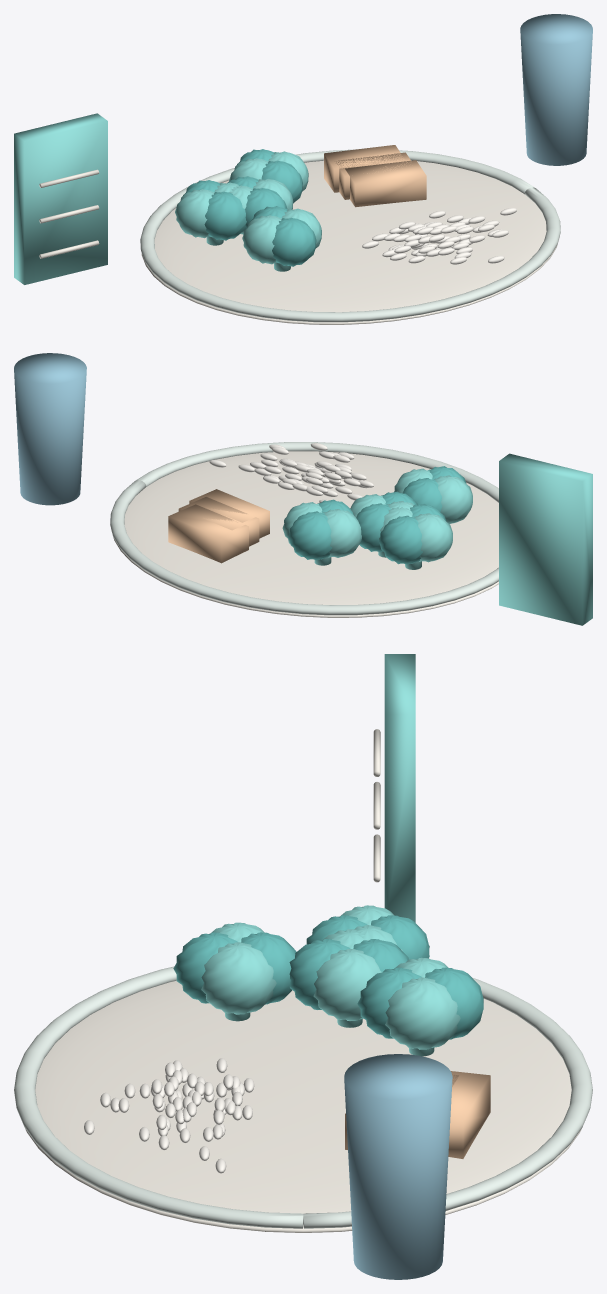
The model's file is metabolism-diabetes.glb.
3 views of the same model, one above another, from view 1: azimuth 30°, elevation 25°; view 2: azimuth 150°, elevation 25°; view 3: azimuth 270°, elevation 25° (orthographic). The views are drawn at different scales.
Visible parts, largest first — view 1: static #eee5d3, static #49bdb4, static #5596b7, static #c7ddd2, static #258985, static #f2a066, static #f8f1e4; view 2: static #eee5d3, static #49bdb4, static #5596b7, static #c7ddd2, static #258985, static #f2a066, static #f8f1e4; view 3: static #eee5d3, static #49bdb4, static #5596b7, static #c7ddd2, static #258985, static #f8f1e4, static #f2a066.
Part boxes in pixels (left/top/right/bottom): static #eee5d3: left=39, top=160, right=559, bottom=324; static #49bdb4: left=14, top=113, right=321, bottom=284; static #5596b7: left=520, top=14, right=592, bottom=165; static #c7ddd2: left=140, top=149, right=560, bottom=322; static #258985: left=183, top=149, right=316, bottom=266; static #f2a066: left=324, top=145, right=426, bottom=207; static #f8f1e4: left=362, top=208, right=516, bottom=264; static #eee5d3: left=111, top=451, right=498, bottom=617; static #49bdb4: left=282, top=453, right=592, bottom=625; static #5596b7: left=14, top=353, right=86, bottom=505; static #c7ddd2: left=110, top=442, right=498, bottom=615; static #258985: left=288, top=466, right=466, bottom=564; static #f2a066: left=168, top=489, right=269, bottom=563; static #f8f1e4: left=209, top=443, right=373, bottom=502; static #eee5d3: left=25, top=729, right=581, bottom=1232; static #49bdb4: left=201, top=654, right=460, bottom=1056; static #5596b7: left=344, top=1054, right=452, bottom=1279; static #c7ddd2: left=14, top=966, right=592, bottom=1228; static #258985: left=173, top=915, right=483, bottom=1039; static #f8f1e4: left=84, top=1058, right=254, bottom=1173; static #f2a066: left=345, top=1071, right=490, bottom=1158.
Size of the model in its own units: 0.504 by 0.1375 by 0.299.
